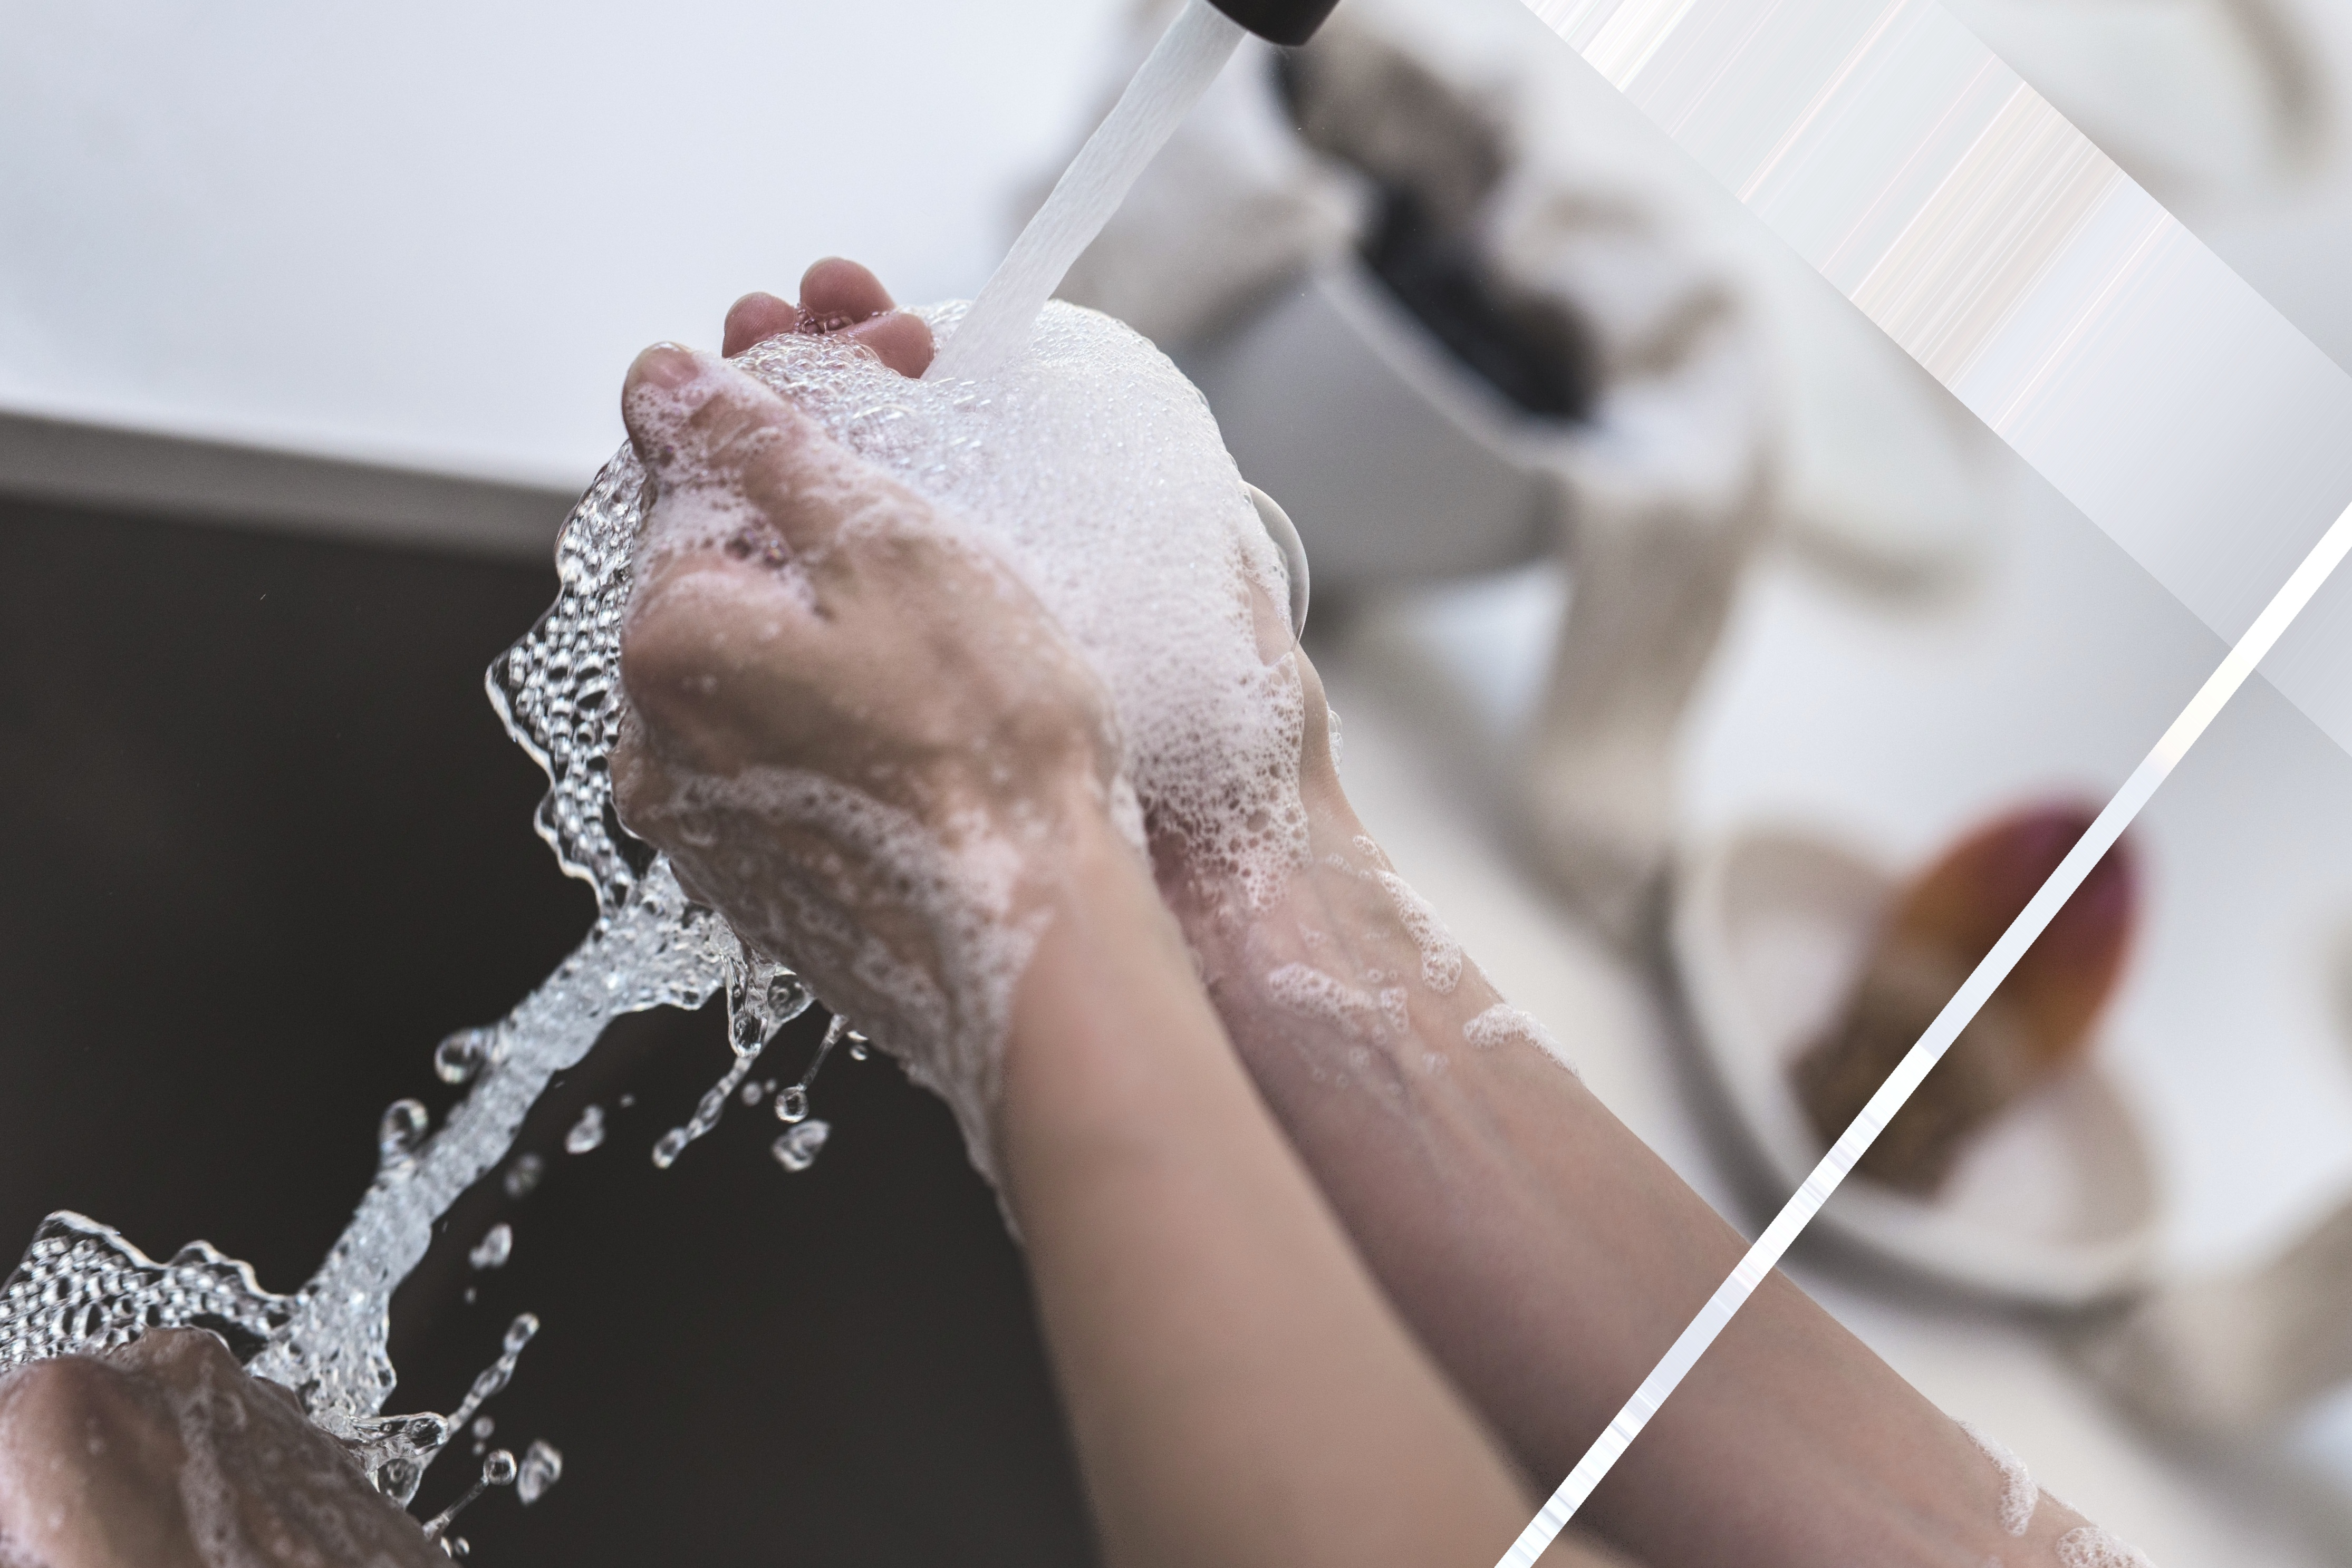washing hand: (147, 0, 1865, 1351)
